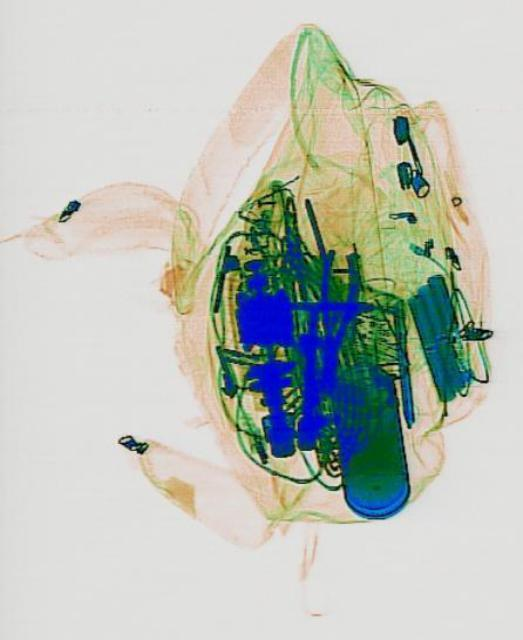Pliers: (307, 245, 362, 388)
